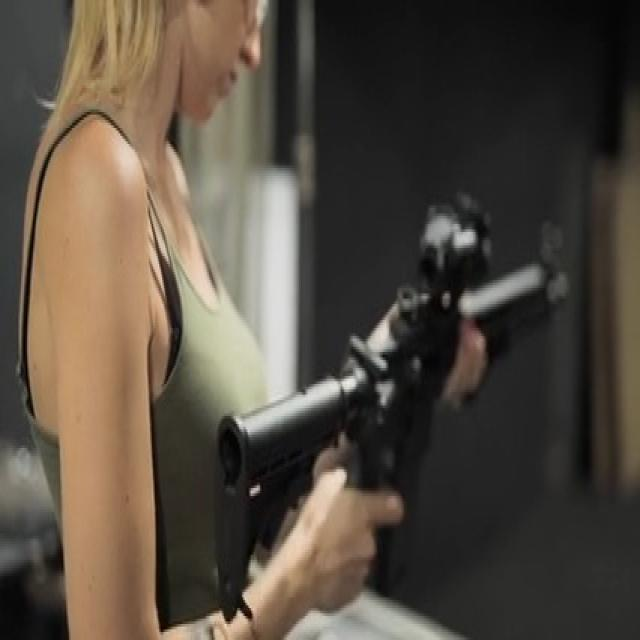Gun_Holder: (199, 191, 610, 616)
Person: (24, 0, 402, 640)
